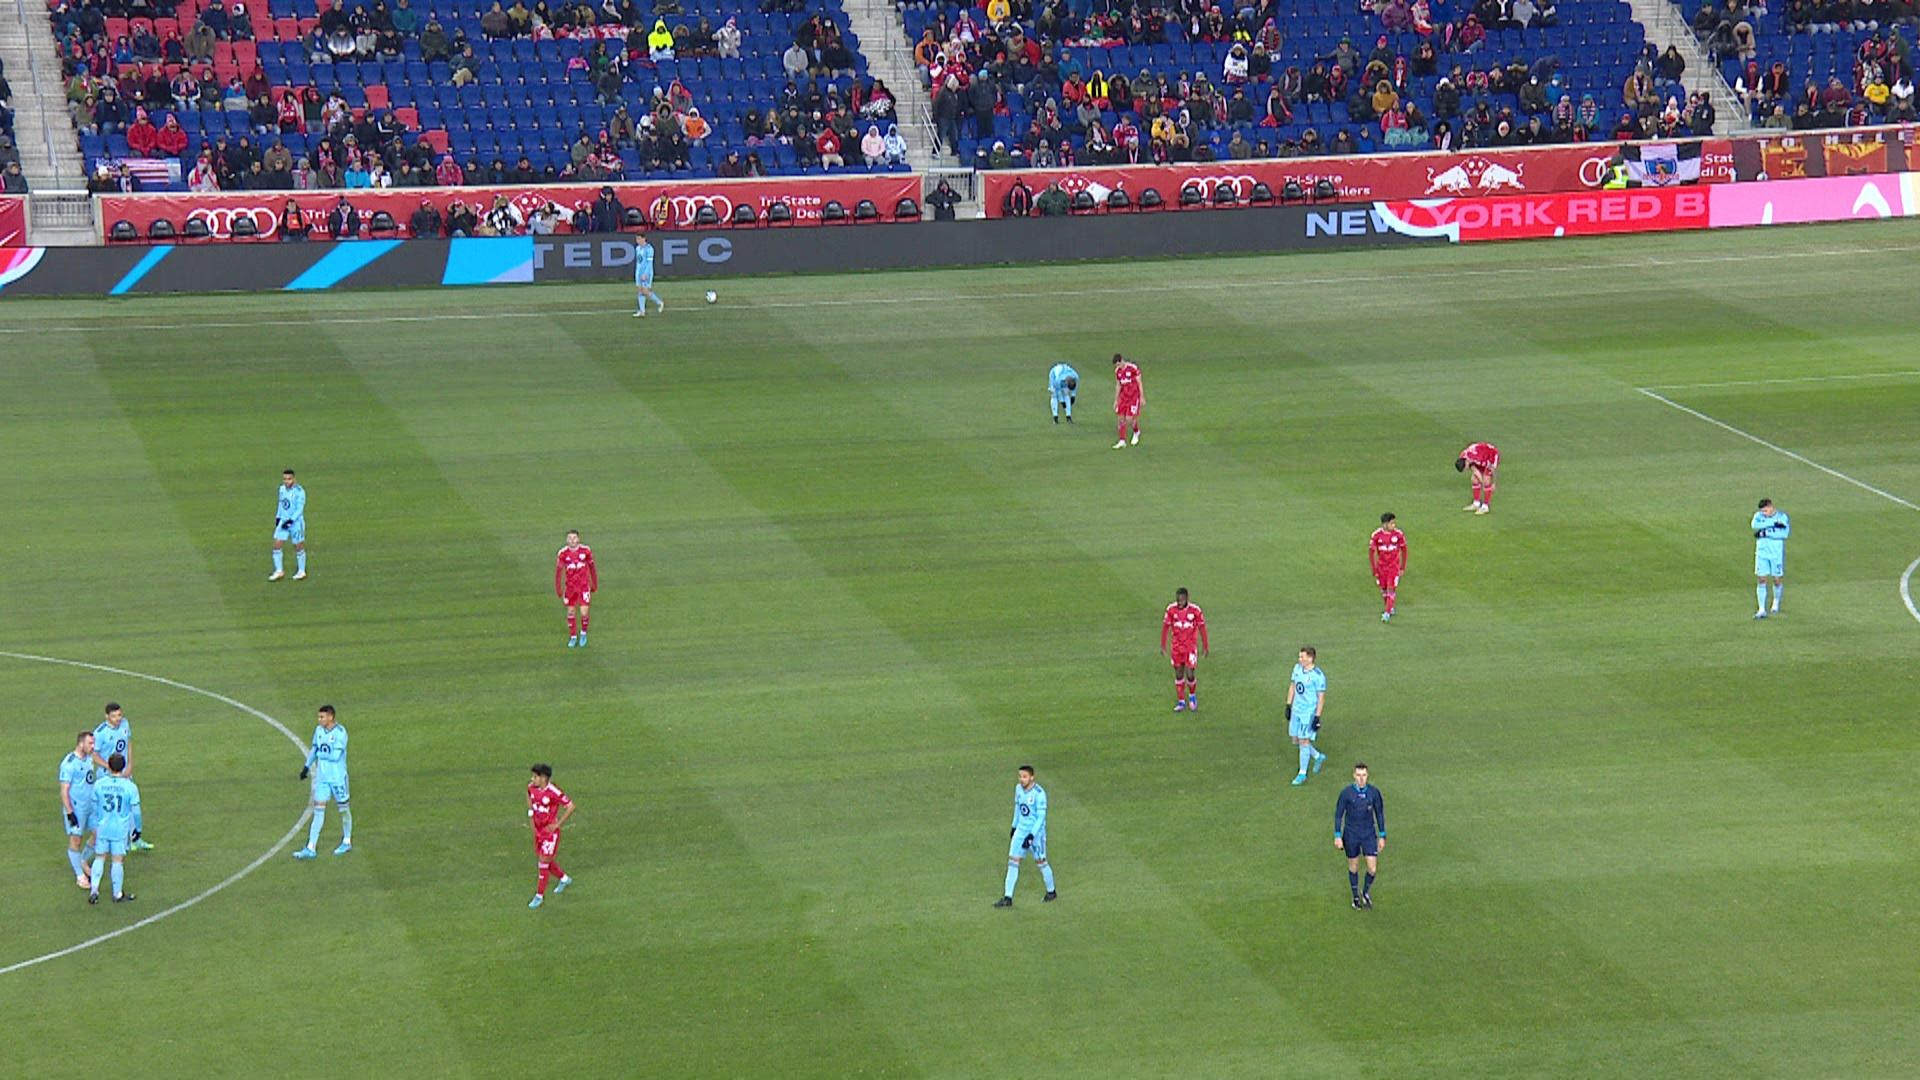football: (705, 290, 717, 303)
